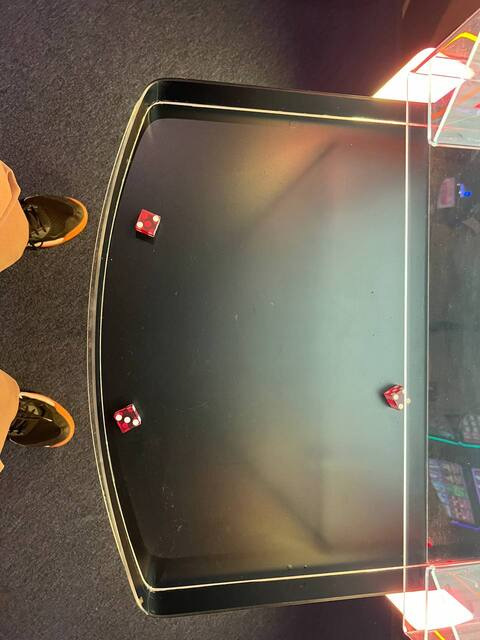four: (390, 388, 412, 410)
three: (109, 405, 148, 434)
two: (133, 207, 163, 239)
